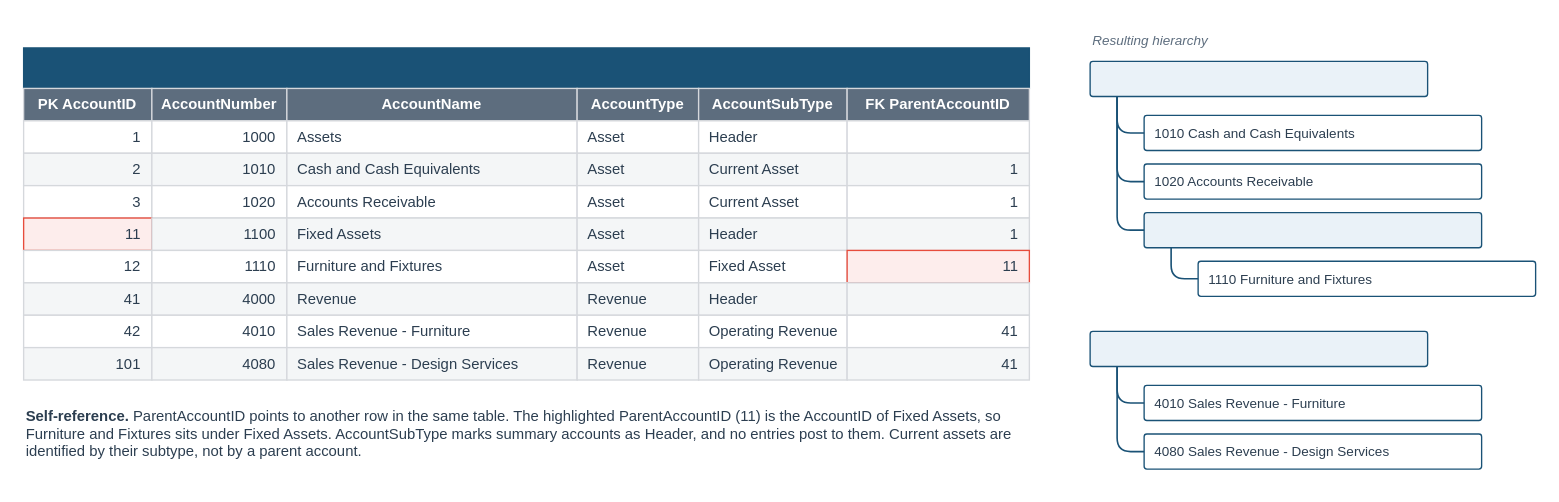
The diagram is 1559 pixels wide and 502 high, and some of its shapes have lost their labels. Here are the shapes that lost their labels. From the top down, the box of each, then its label:
(22, 47, 1029, 88): Account
(1089, 60, 1428, 97): 1000 Assets
(1143, 211, 1482, 248): 1100 Fixed Assets
(1089, 330, 1428, 367): 4000 Revenue
